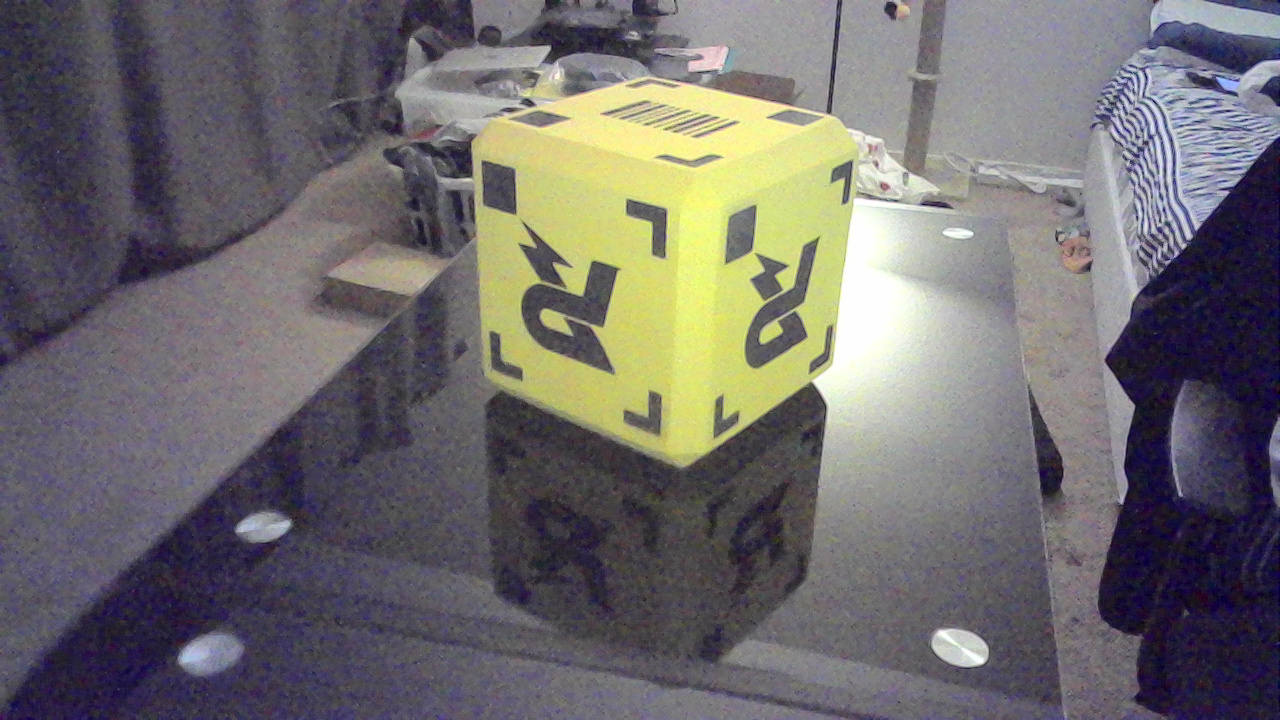Barcode: (597, 98, 744, 149)
R: (520, 229, 638, 378), (749, 257, 822, 379)
